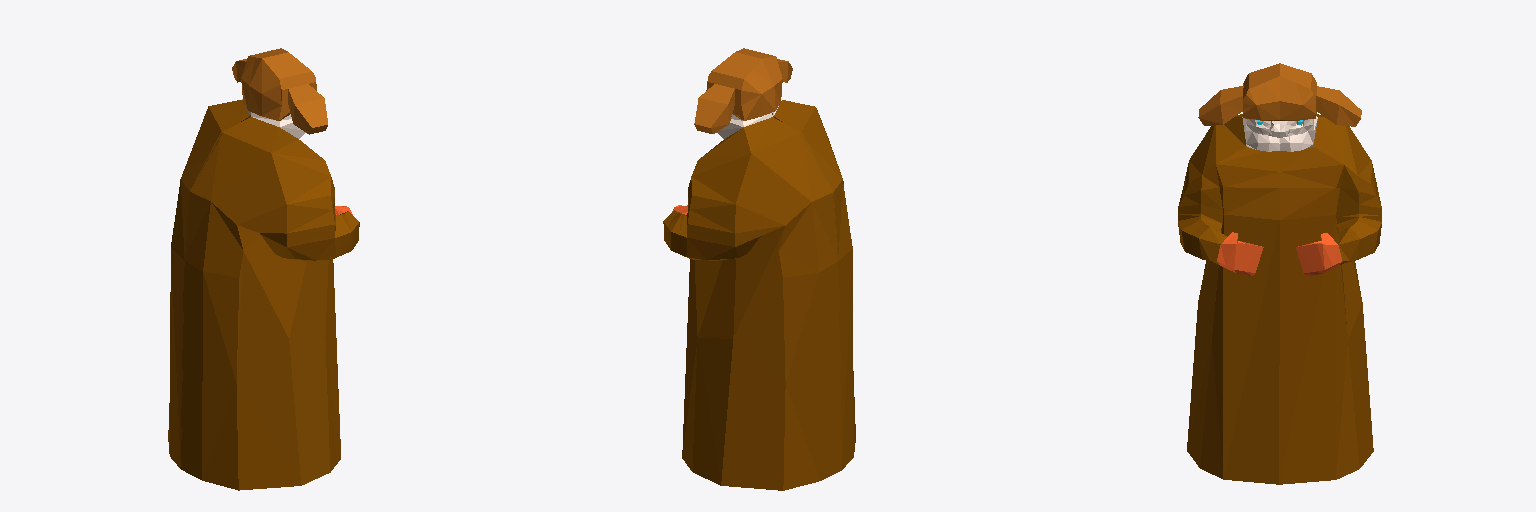
File: Player.obj
The picture shows the model from 3 angles: view 1: azimuth 30°, elevation 25°; view 2: azimuth 150°, elevation 25°; view 3: azimuth 270°, elevation 25°; orthographic projection.
Parts seen in each view (by area): view 1: Player; view 2: Player; view 3: Player.
Boxes of the visible parts, x1,y1,x2,y2 form: Player: [168, 48, 359, 490]; Player: [663, 48, 855, 490]; Player: [1178, 63, 1381, 484].
Bounding box in the file's own units: 1.08 × 2.7 × 1.28.